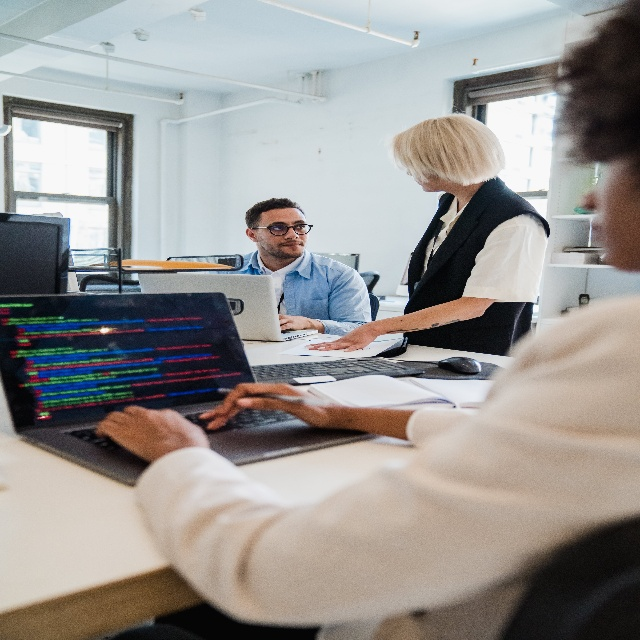Gafas: (251, 221, 313, 241)
Sin_guantes: (97, 401, 212, 471), (200, 377, 330, 433), (308, 323, 378, 354), (277, 311, 324, 337)
